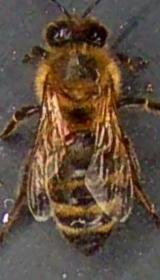varroa_mite: (59, 130, 82, 146)
